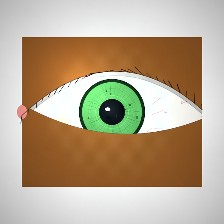pinguecula_lesion: (41, 107, 79, 137)
